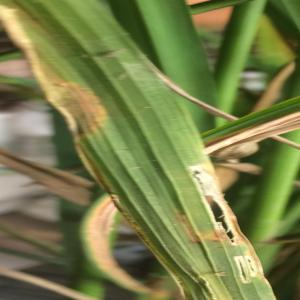Bacterial_Blight: (32, 1, 162, 177)
